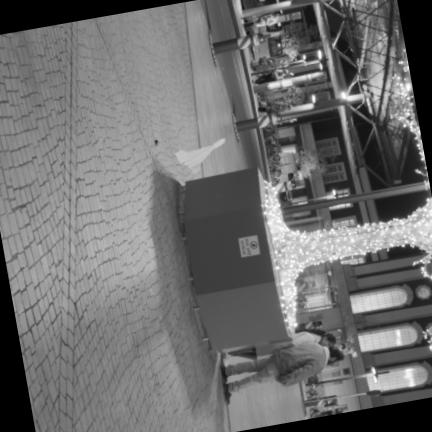Shahed: (175, 139, 224, 174)
